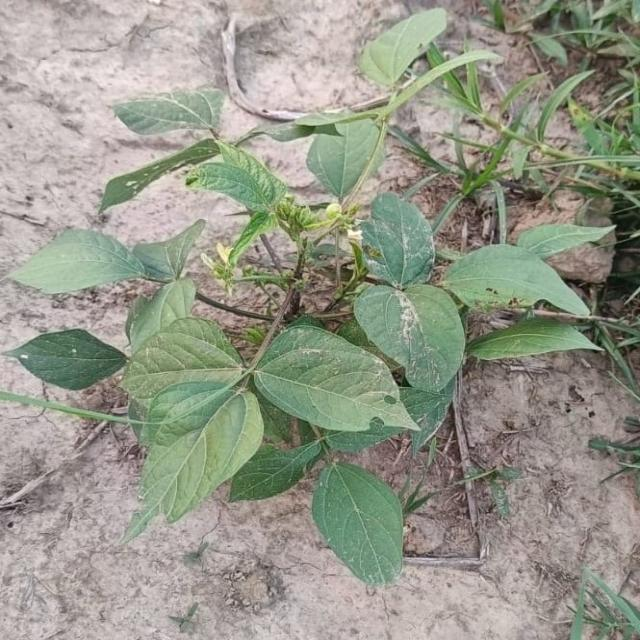plant: (3, 10, 609, 584)
